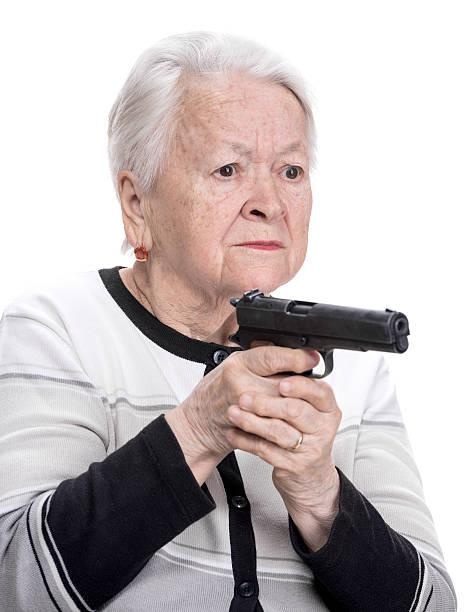weapon: (224, 285, 421, 394)
